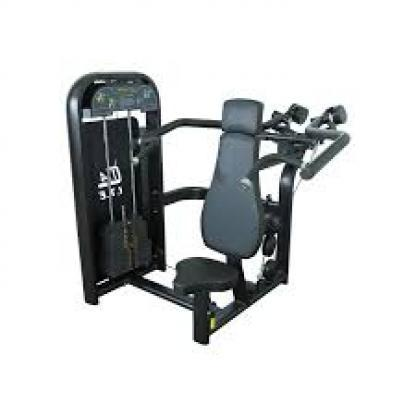shoulder press machine: (64, 65, 355, 349)
